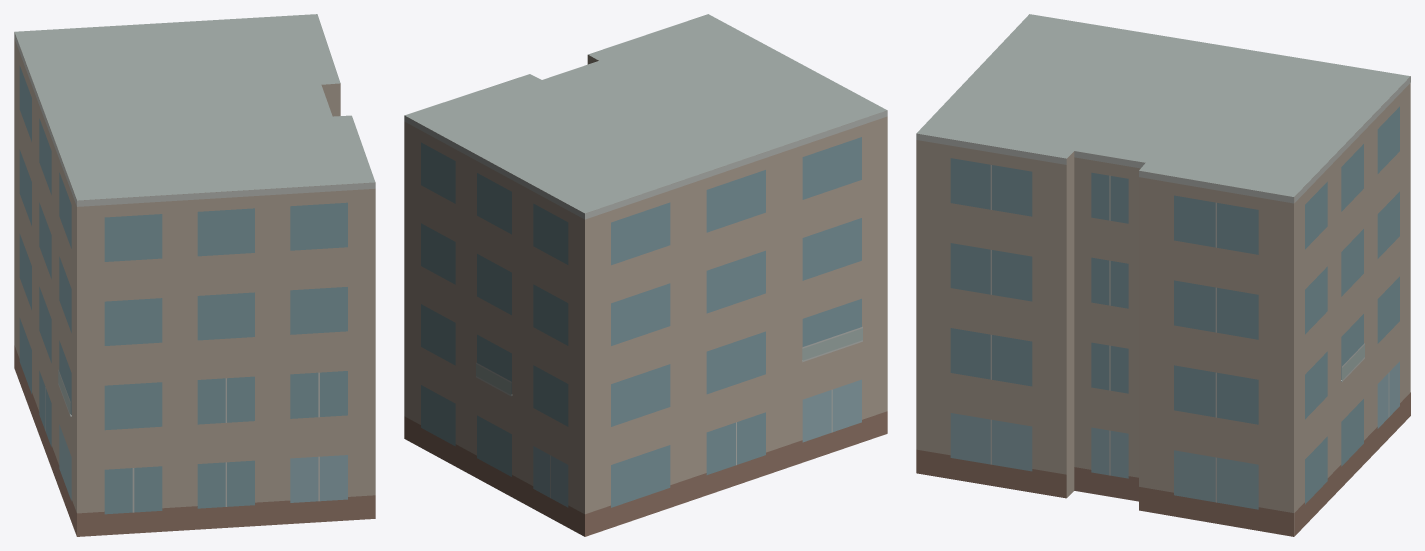
The model's file is survey-upis-32666451.glb.
3 renders of one model, left to right at view 1: azimuth 30°, elevation 25°; view 2: azimuth 150°, elevation 25°; view 3: azimuth 270°, elevation 25°, orthographic. The views are drawn at different scales.
Parts seen in each view (by area): view 1: survey-upis-32666451.tmp; view 2: survey-upis-32666451.tmp; view 3: survey-upis-32666451.tmp.
Part boxes in pixels (x1,y1,x2,y2): survey-upis-32666451.tmp: (14,14,375,536); survey-upis-32666451.tmp: (404,14,887,536); survey-upis-32666451.tmp: (916,14,1410,536).
Size of the model in its own units: 14.94 by 12.92 by 17.05.
